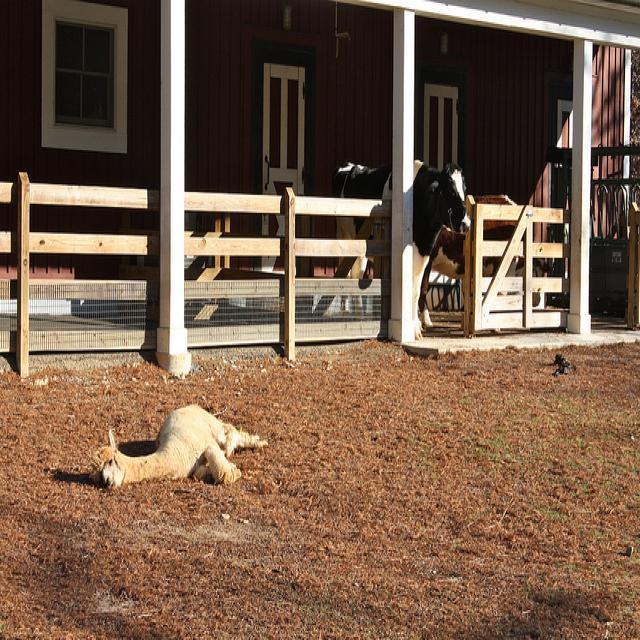cow: (331, 158, 470, 338)
